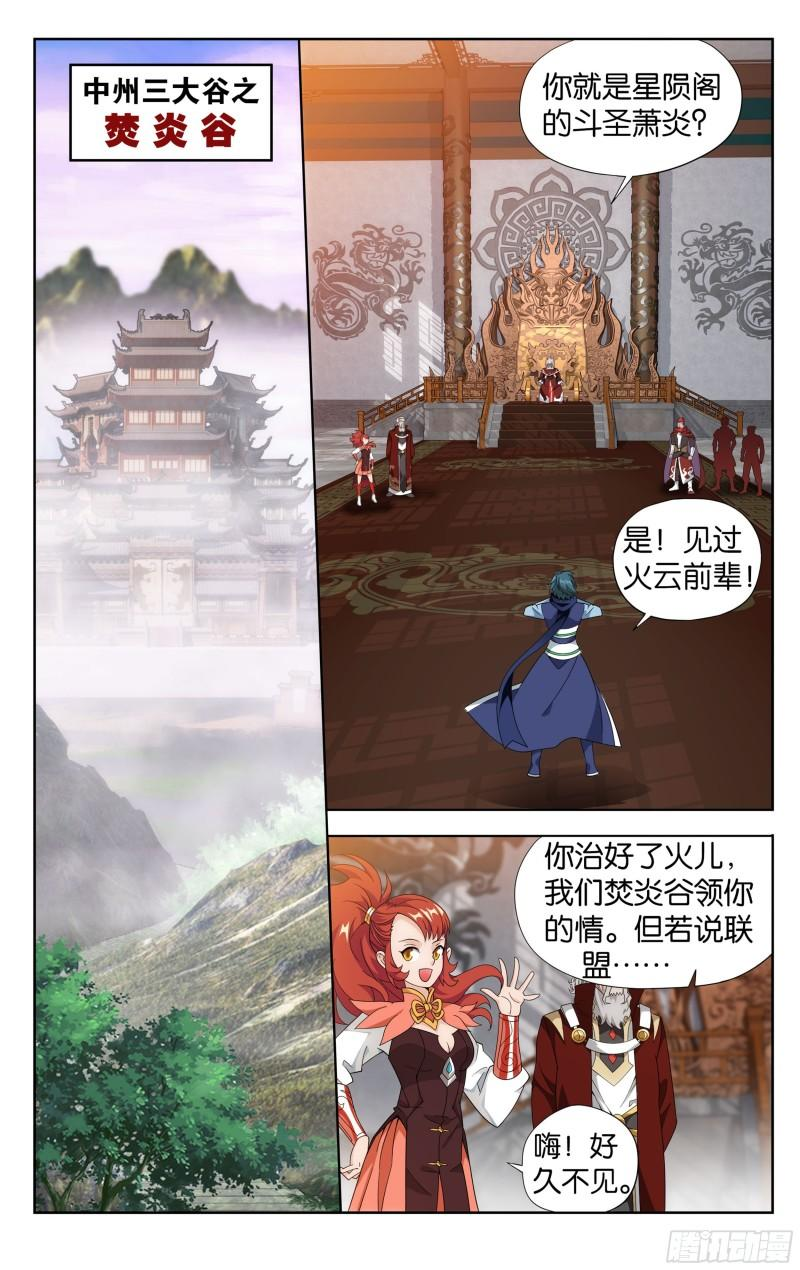boxCube: (63, 59, 276, 164)
boxEllipse: (513, 832, 777, 991), (516, 38, 747, 185), (606, 491, 768, 631), (507, 1101, 646, 1215)
minBox: (23, 32, 344, 1219), (294, 32, 777, 814), (321, 829, 780, 1219)
